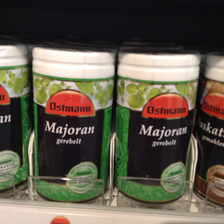spices: (114, 47, 200, 205), (31, 46, 114, 205)
